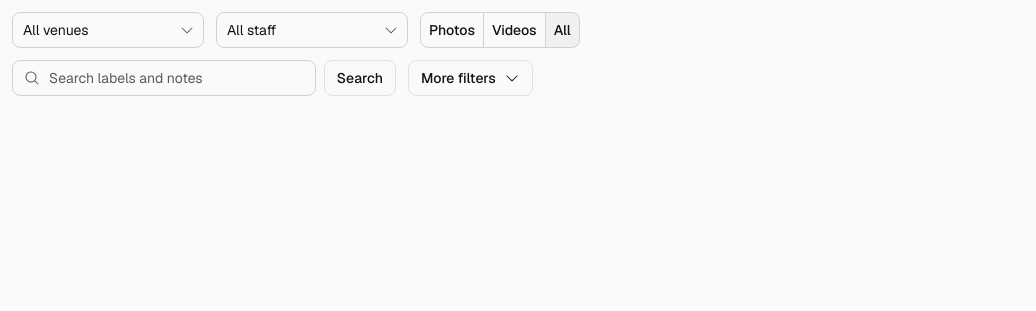
it: LibraryFilters more filters › opens a labelled disclosure and needs a venue for menu filters
This screenshot has width=1036, height=311.
Click the button "More filters" at (470, 78), box [408,60,533,96]
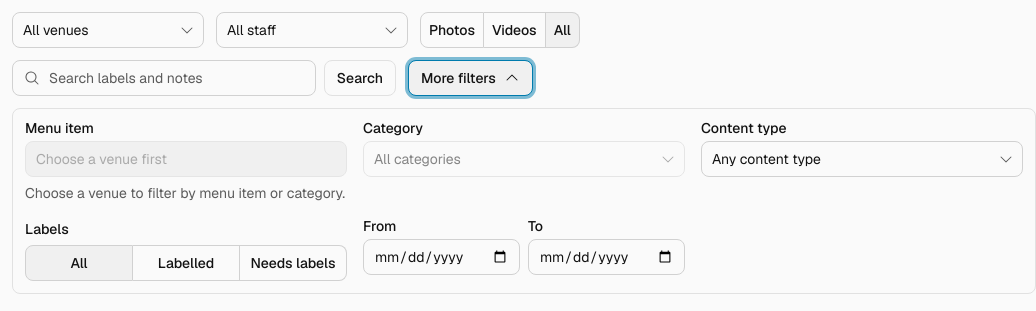
Check: the button "More filters" is expanded, box [408,60,533,96]
Check: the dropdown labelled "Menu item" is disabled, box [25,141,347,177]
Check: the dropdown labelled "content type" is shown, box [701,141,1023,177]
